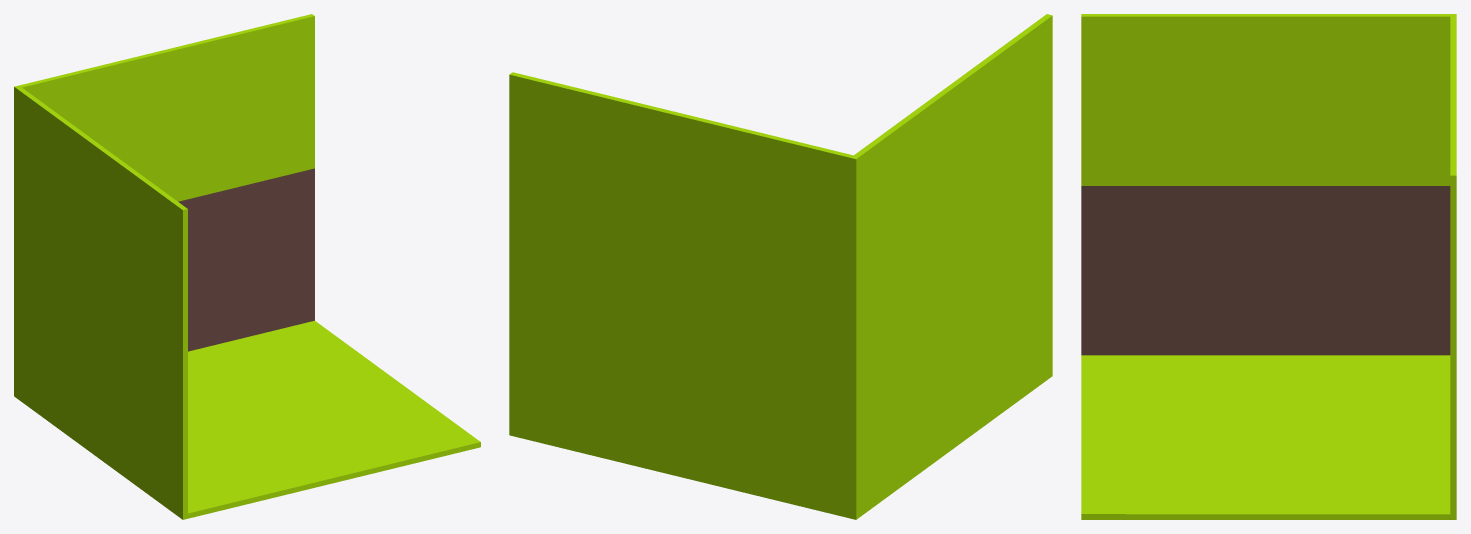
Rendered from Room3.fbx.
The picture shows the model from 3 angles, left to right: view 1: azimuth 30°, elevation 25°; view 2: azimuth 150°, elevation 25°; view 3: azimuth 270°, elevation 25°; orthographic projection. The views are drawn at different scales.
Visible parts, largest first — view 1: Room3; view 2: Room3; view 3: Room3.
Boxes of the visible parts, <box> form: Room3: <box>14,14,480,519</box>; Room3: <box>509,14,1052,519</box>; Room3: <box>1081,14,1456,519</box>.
Size of the model in its own units: 253 by 252 by 249.
